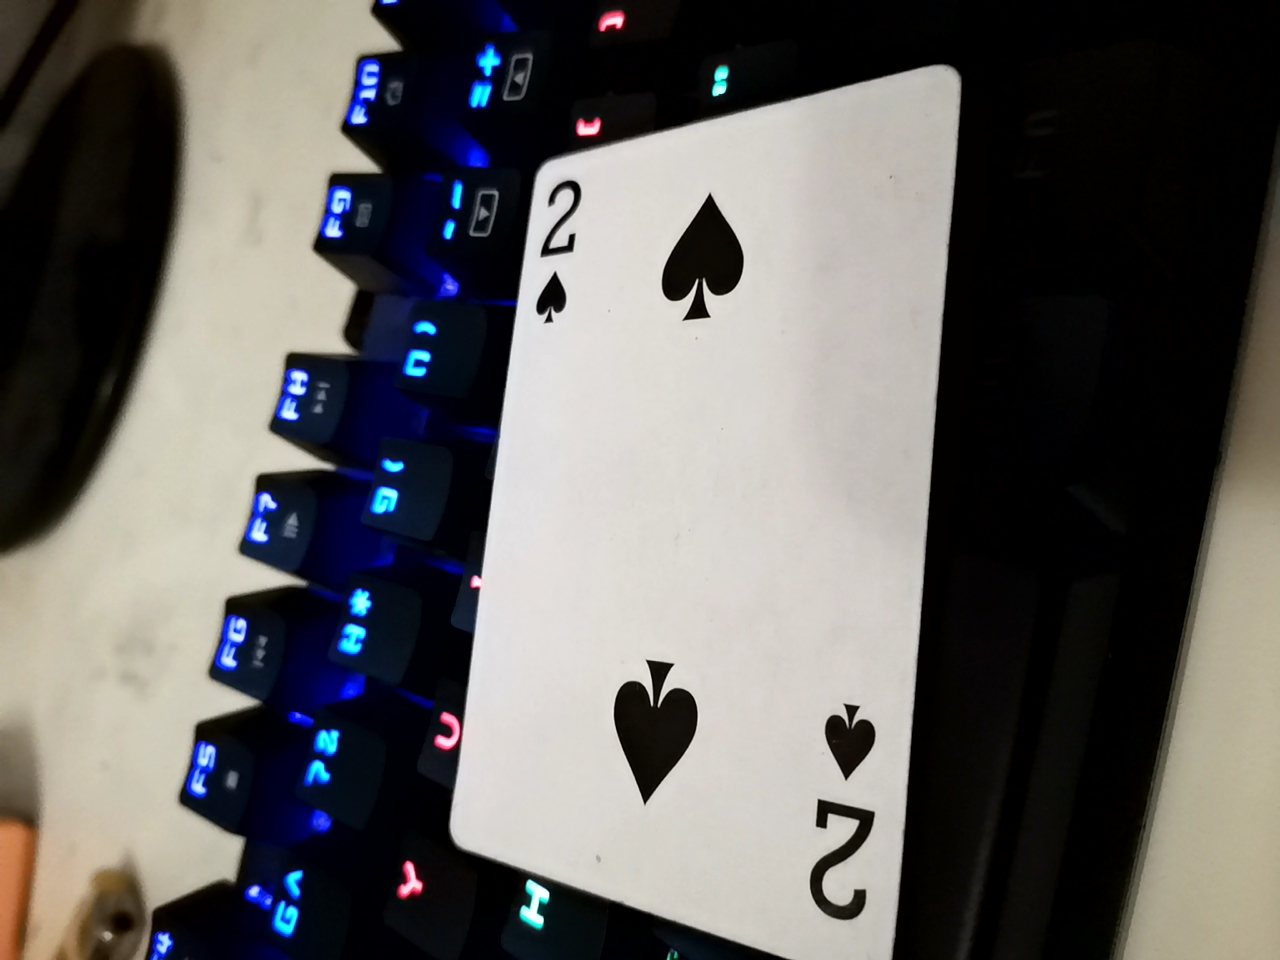ht 2: (453, 76, 940, 946)
